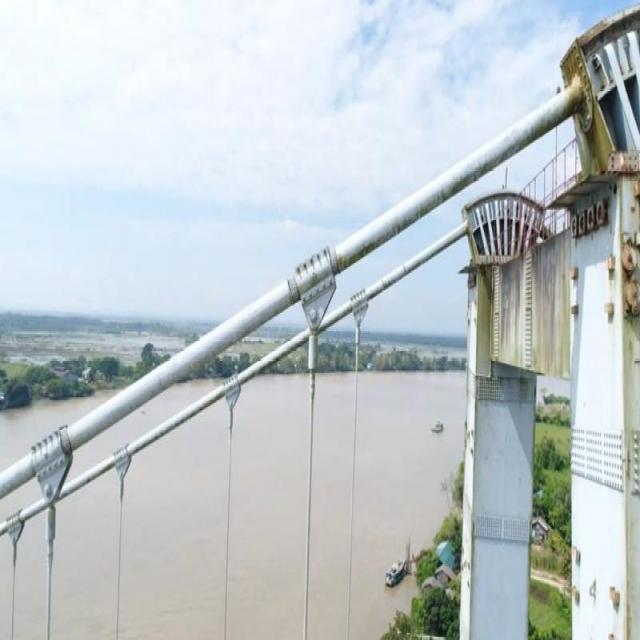Slippage: (60, 426, 72, 455), (288, 277, 300, 305), (330, 246, 339, 275)
